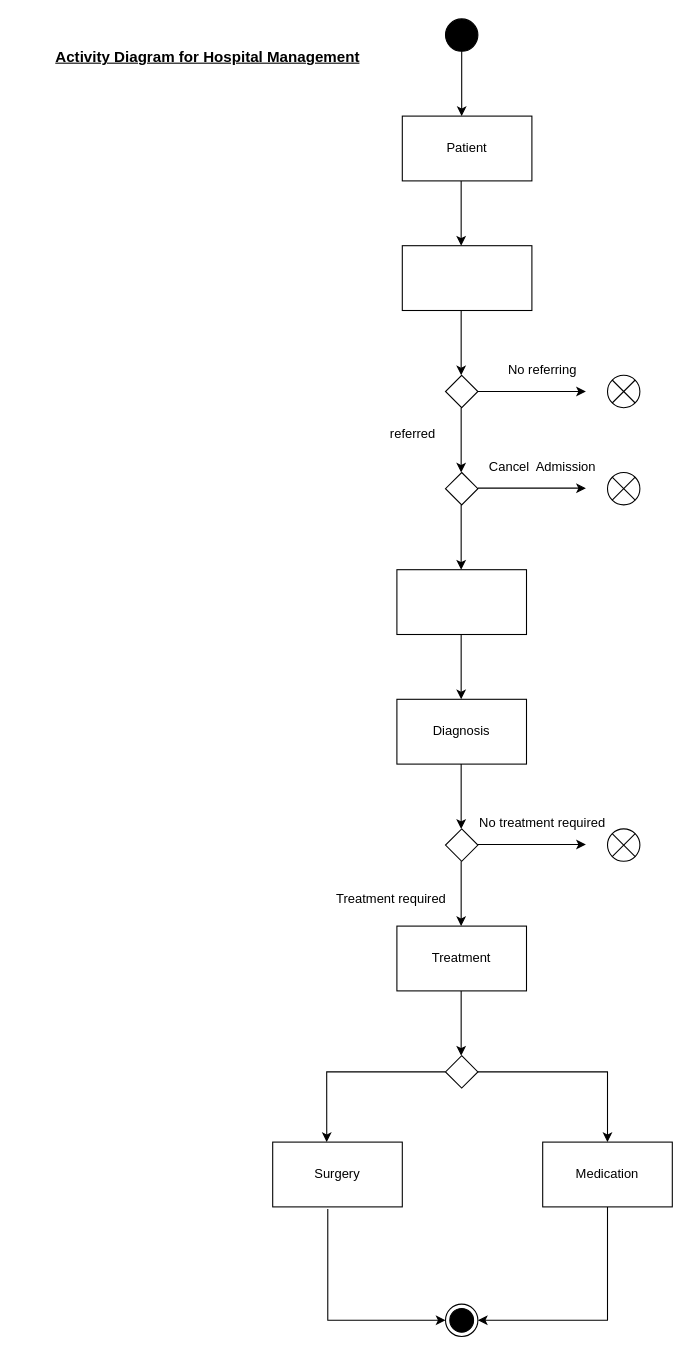
Image size: 691x1355. Some labels were removed from this diagram. Here are the shapes that lost their labels. From the top down, the centre of each, then its label:
At point 466,277: "Community Doctor".
At point 461,601: "Admission Episode".
